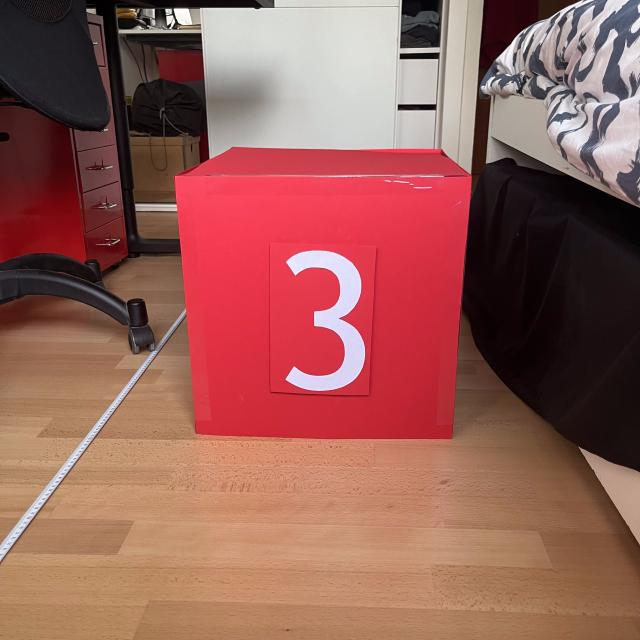box: (169, 140, 475, 444)
